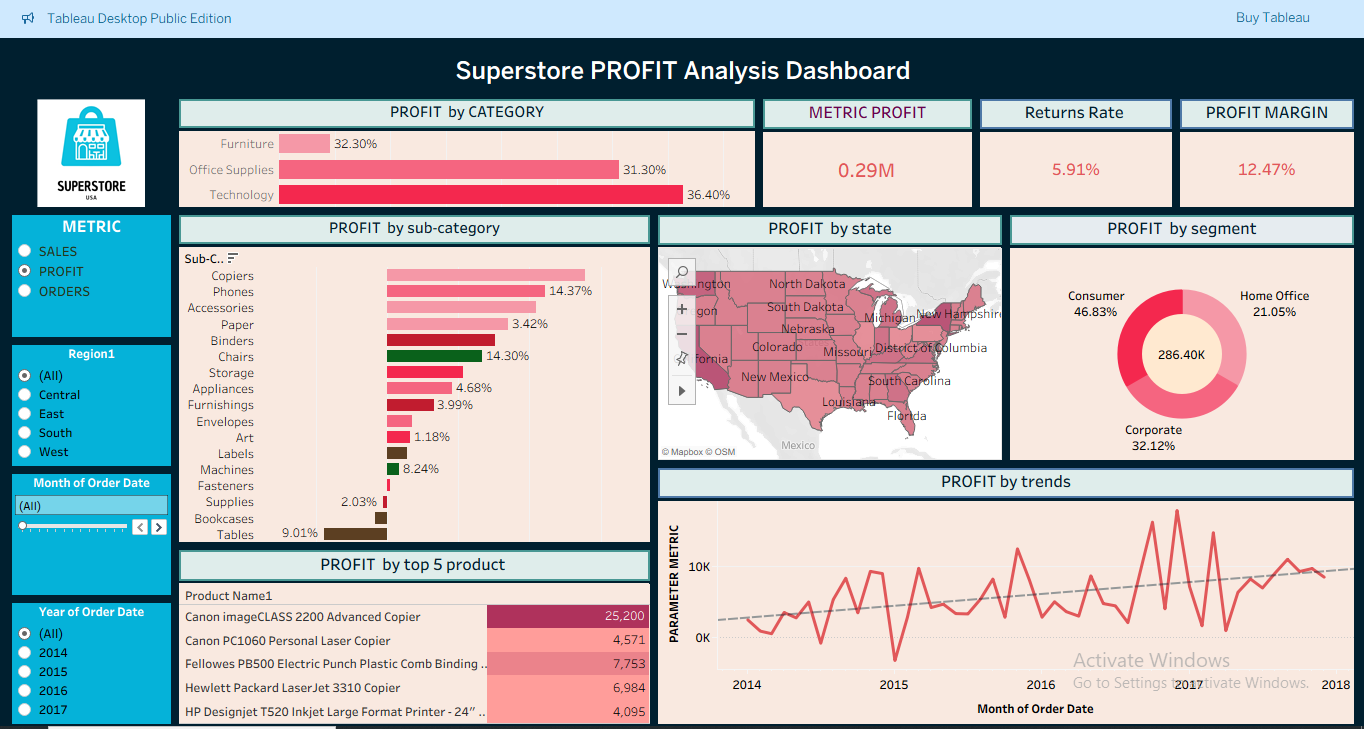

Layout of this report page (visuals, bound fields, positions):
{"tool":"tableau","page":{"name":"SAMPLE DASHBOARD","canvas":[1000,1000],"units":"permille","ordinal":1},"visuals":[{"type":"text","box":[6.9,14.5,986.1,70.4]},{"type":"image","param":"Image/image sam 1.jpg","box":[6.9,84.9,122.1,164.6]},{"type":"worksheet","title":"categ","mark":"Automatic","rows":["Category"],"cols":["Calculation_191684468491907076"],"box":[129,84.9,426.7,164.6]},{"type":"worksheet","title":"METRIC","mark":"Automatic","box":[555.6,84.9,158.5,164.6]},{"type":"worksheet","title":"return rate","mark":"Automatic","box":[714.1,84.9,146.3,164.6]},{"type":"worksheet","title":"profit margin","mark":"Automatic","box":[860.4,84.9,132.7,164.6]},{"type":"worksheet","title":"sub-cate","mark":"Automatic","rows":["Sub-Category"],"cols":["Calculation_191684468491907076"],"box":[129,249.5,349.6,476.4]},{"type":"worksheet","title":"state","mark":"Automatic","box":[478.6,249.5,257.1,360.4]},{"type":"worksheet","title":"seg DONUT","mark":"Pie","rows":["Calculation_191684468496130054","Calculation_191684468496142344"],"box":[735.6,249.5,257.4,360.4]},{"type":"parameter","param":"[Parameters].[Parameter 2]","box":[6.9,250,122.1,184.8]},{"type":"filter","title":"METRIC","param":"[federated.1fu1zzt0jwgsg214un93210rbnlb].[none:Region:nk]","box":[6.9,434.8,122.1,184.8]},{"type":"worksheet","title":"trend ","mark":"Automatic","rows":["Calculation_191684468491907076"],"cols":["Order Date"],"box":[478.6,609.9,514.5,375.6]},{"type":"filter","title":"METRIC","param":"[federated.1fu1zzt0jwgsg214un93210rbnlb].[mn:Order Date:ok]","box":[6.9,619.6,122.1,183]},{"type":"worksheet","title":"product","mark":"Square","rows":["Product Name"],"box":[129,726,349.6,259.5]},{"type":"filter","title":"METRIC","param":"[federated.1fu1zzt0jwgsg214un93210rbnlb].[yr:Order Date:ok]","box":[6.9,802.5,122.1,183]}]}

Visuals, with their boxes on the dashboard's canvas, which has no fixed pixel size, in thousandths of its width and height (x1, y1, x2, y2). These are canvas units, not pixel positions in the 1364x729 screenshot, which may show the page scaled, cropped or inside an application window:
text: 7, 14, 993, 85
image: 7, 85, 129, 250
"categ" worksheet: 129, 85, 556, 250
"METRIC" worksheet: 556, 85, 714, 250
"return rate" worksheet: 714, 85, 860, 250
"profit margin" worksheet: 860, 85, 993, 250
"sub-cate" worksheet: 129, 250, 479, 726
"state" worksheet: 479, 250, 736, 610
"seg DONUT" worksheet (Pie marks): 736, 250, 993, 610
parameter: 7, 250, 129, 435
"METRIC" filter: 7, 435, 129, 620
"trend " worksheet: 479, 610, 993, 986
"METRIC" filter: 7, 620, 129, 803
"product" worksheet (Square marks): 129, 726, 479, 986
"METRIC" filter: 7, 802, 129, 986
